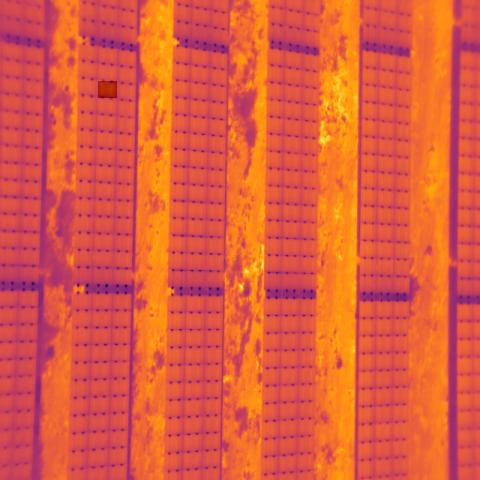fault: (98, 81, 117, 98)
